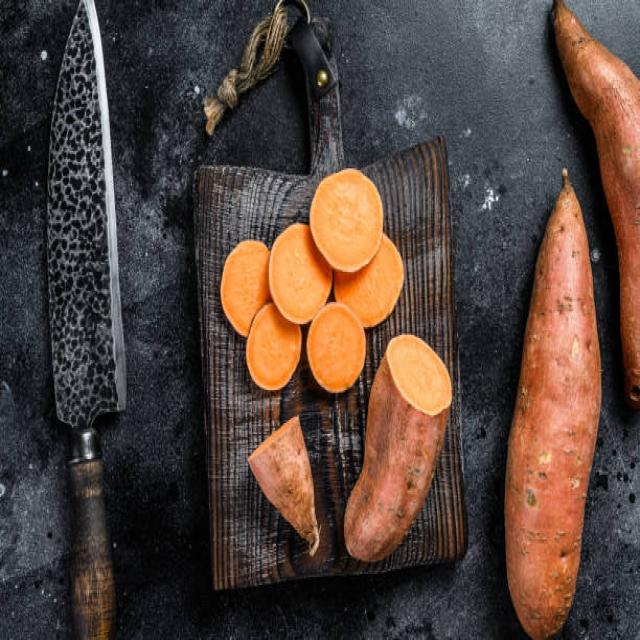Sweet Potato: (503, 166, 603, 640), (368, 332, 453, 548), (550, 0, 640, 167), (250, 417, 318, 555), (309, 163, 383, 273), (305, 304, 368, 394), (270, 219, 314, 323), (245, 322, 302, 392), (218, 236, 269, 307)
